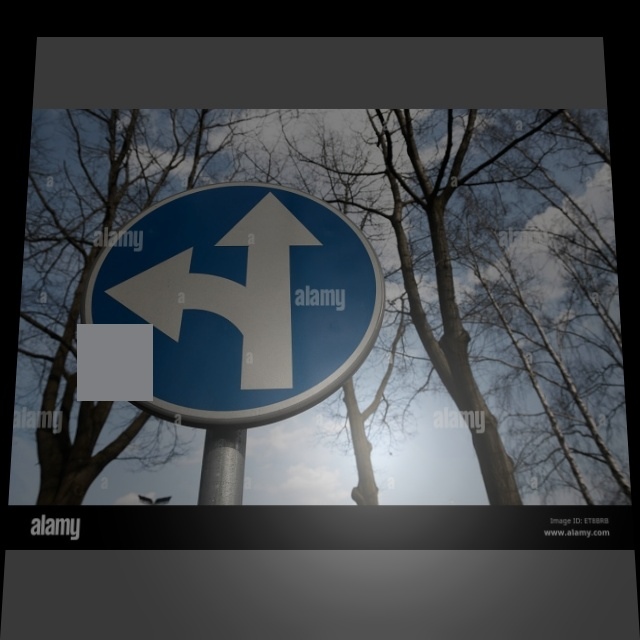Compulsory_Ahead_or_Turn_Left: (69, 177, 384, 421)
